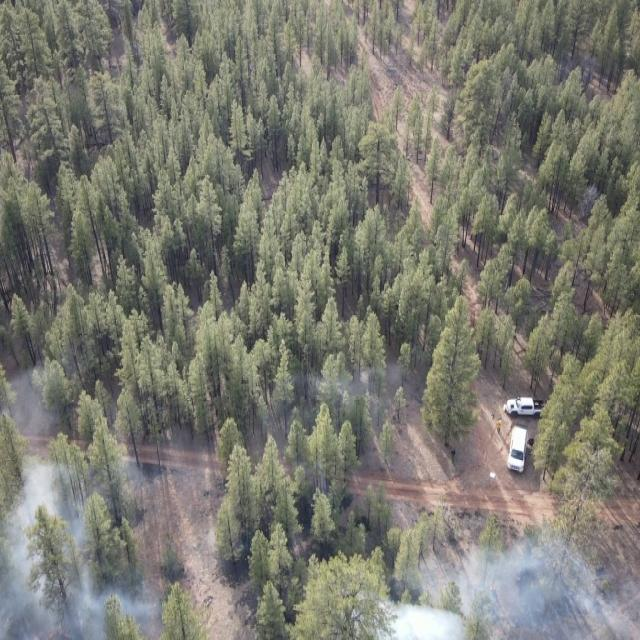fire: (40, 620, 80, 640), (481, 577, 507, 603)
smoke: (0, 356, 171, 640), (344, 537, 639, 640), (282, 354, 416, 427)
